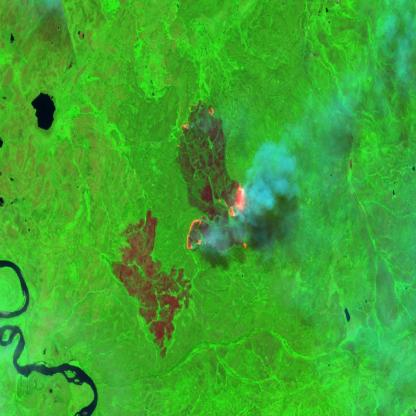fire: (176, 100, 257, 254)
